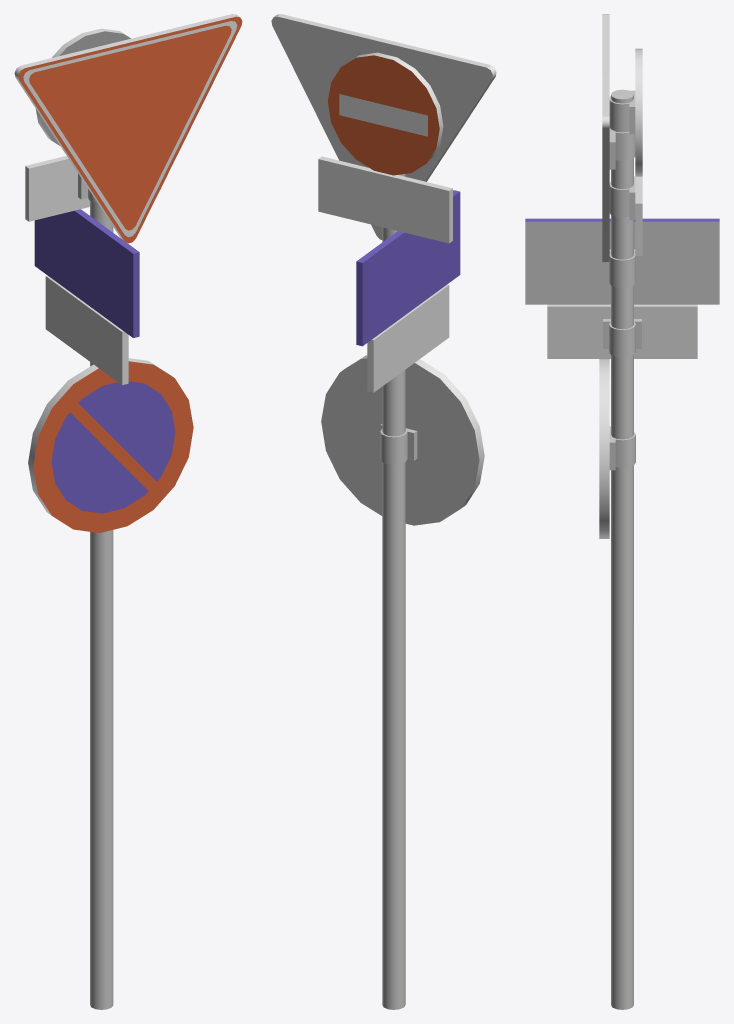
File: Streetsign.fbx
The picture shows the model from 3 angles, left to right: view 1: azimuth 30°, elevation 25°; view 2: azimuth 150°, elevation 25°; view 3: azimuth 270°, elevation 25°; orthographic projection.
Parts seen in each view (by area): view 1: StopSign, NoParkingSign, Streetsign, OneWaySign, TextSign (×2), NoEntrySign; view 2: NoParkingSign, Streetsign, TextSign (×2), StopSign, NoEntrySign, OneWaySign; view 3: Streetsign, OneWaySign, TextSign (×2), StopSign, NoParkingSign, NoEntrySign.
Part boxes in pixels (x1,y1,x2,y2): StopSign: [14, 14, 242, 243]; NoParkingSign: [28, 358, 193, 532]; Streetsign: [90, 201, 113, 1009]; OneWaySign: [34, 209, 139, 337]; TextSign (×2): [25, 156, 161, 385]; NoEntrySign: [36, 28, 131, 145]; NoParkingSign: [321, 355, 484, 525]; Streetsign: [382, 174, 405, 1009]; TextSign (×2): [318, 156, 452, 392]; StopSign: [271, 14, 496, 239]; NoEntrySign: [327, 52, 443, 175]; OneWaySign: [356, 190, 460, 346]; Streetsign: [611, 89, 633, 1009]; OneWaySign: [525, 218, 719, 304]; TextSign (×2): [547, 176, 697, 358]; StopSign: [602, 14, 635, 262]; NoParkingSign: [599, 359, 635, 538]; NoEntrySign: [609, 48, 642, 176].
Bounding box in the file's own units: 74.71 × 308 × 56.99.
